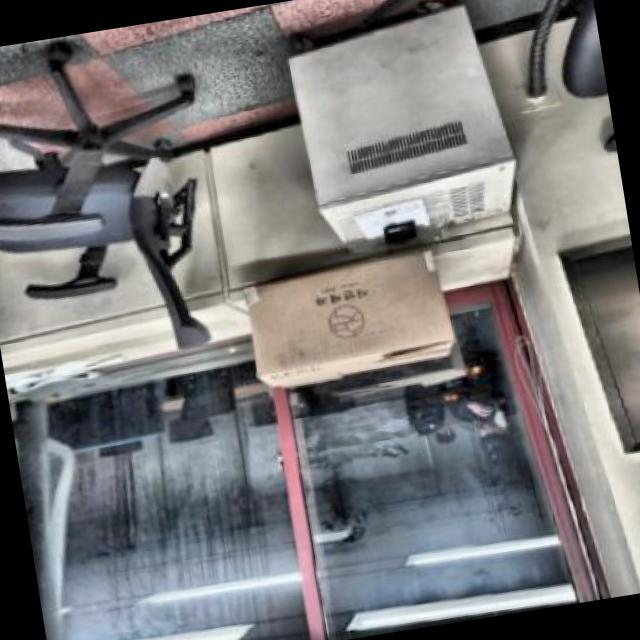box: (219, 232, 483, 400)
